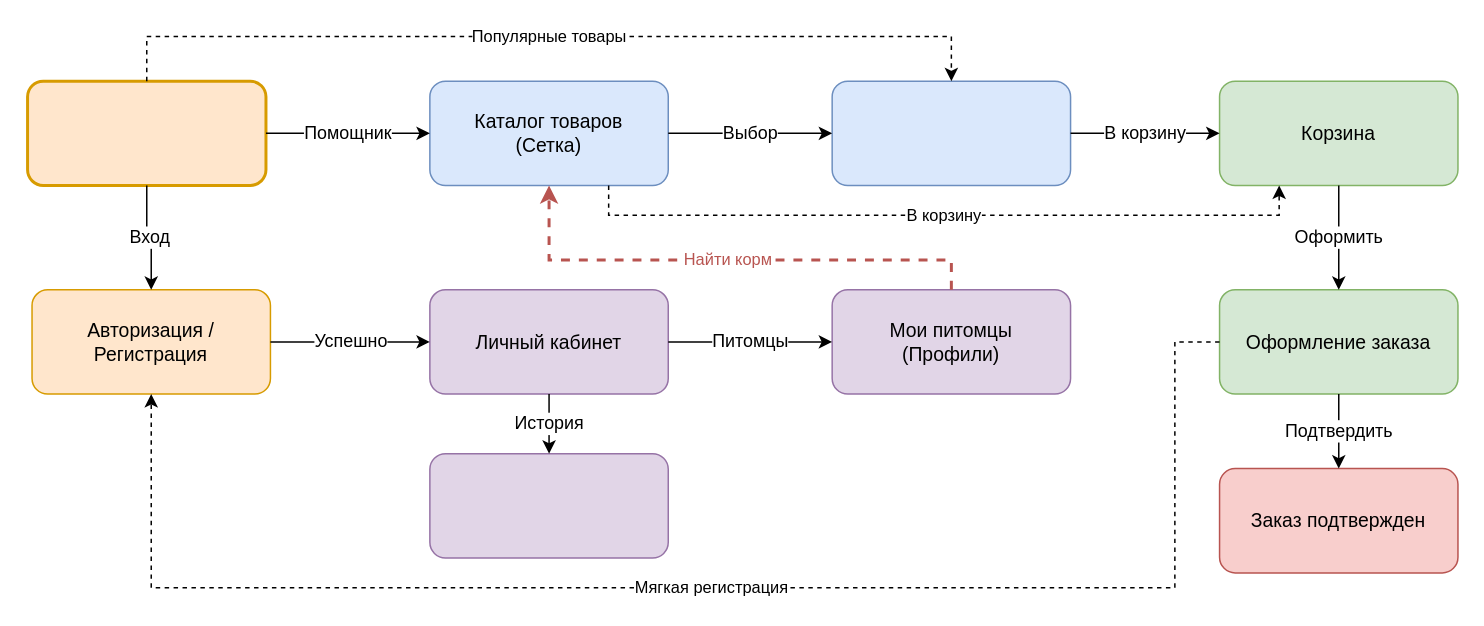
Image size: 1484x626. Some labels were removed from this diagram. The shapes that lost their labels are listed below. From the top down, each one's centre as x and y in pixels, then its label:
At (146,132): "Главная страница (Помощник, Новинки)".
At (951,133): "Карточка товара (Детали)".
At (548,505): "История заказов".
